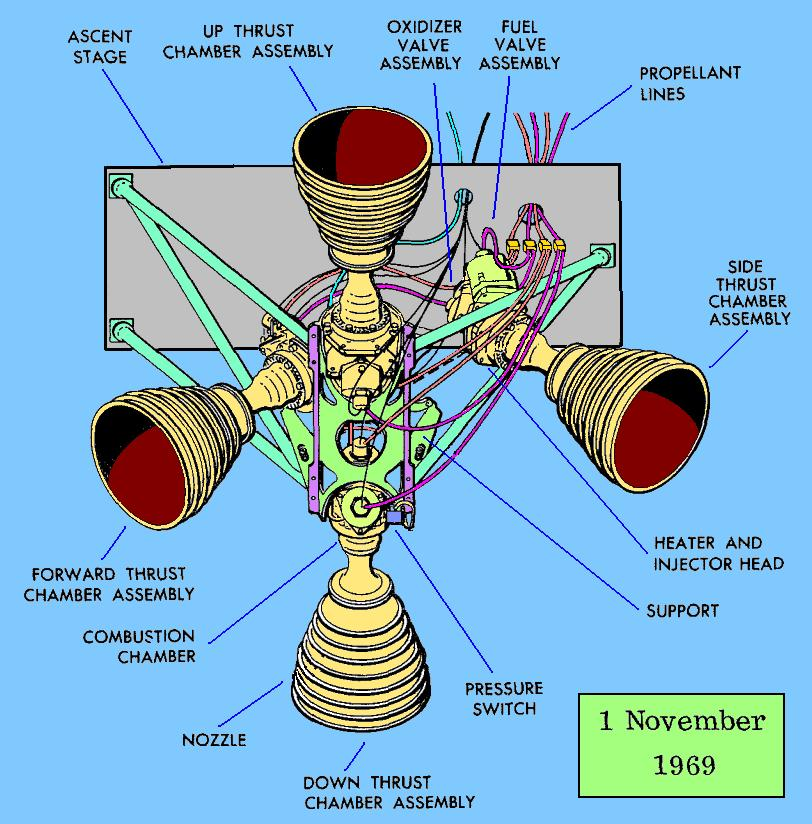thruster: (280, 534, 436, 735), (543, 341, 713, 497), (89, 380, 258, 534), (291, 103, 438, 272)
